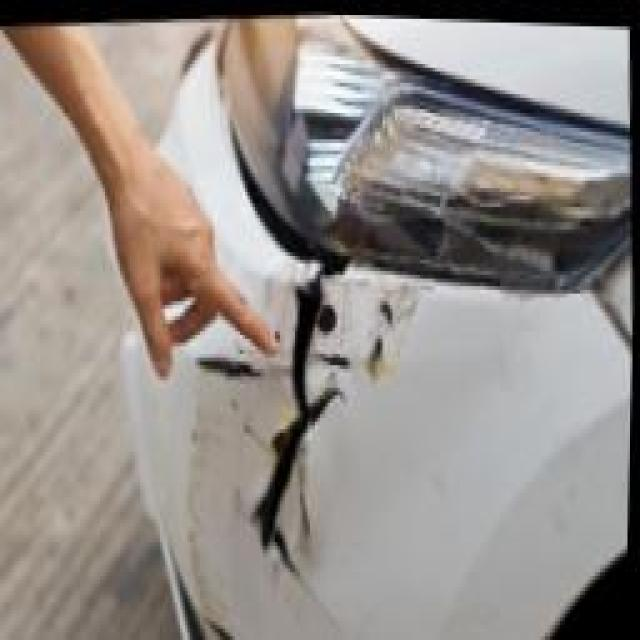Bumper: (210, 248, 450, 626)
Light: (365, 113, 588, 279)
